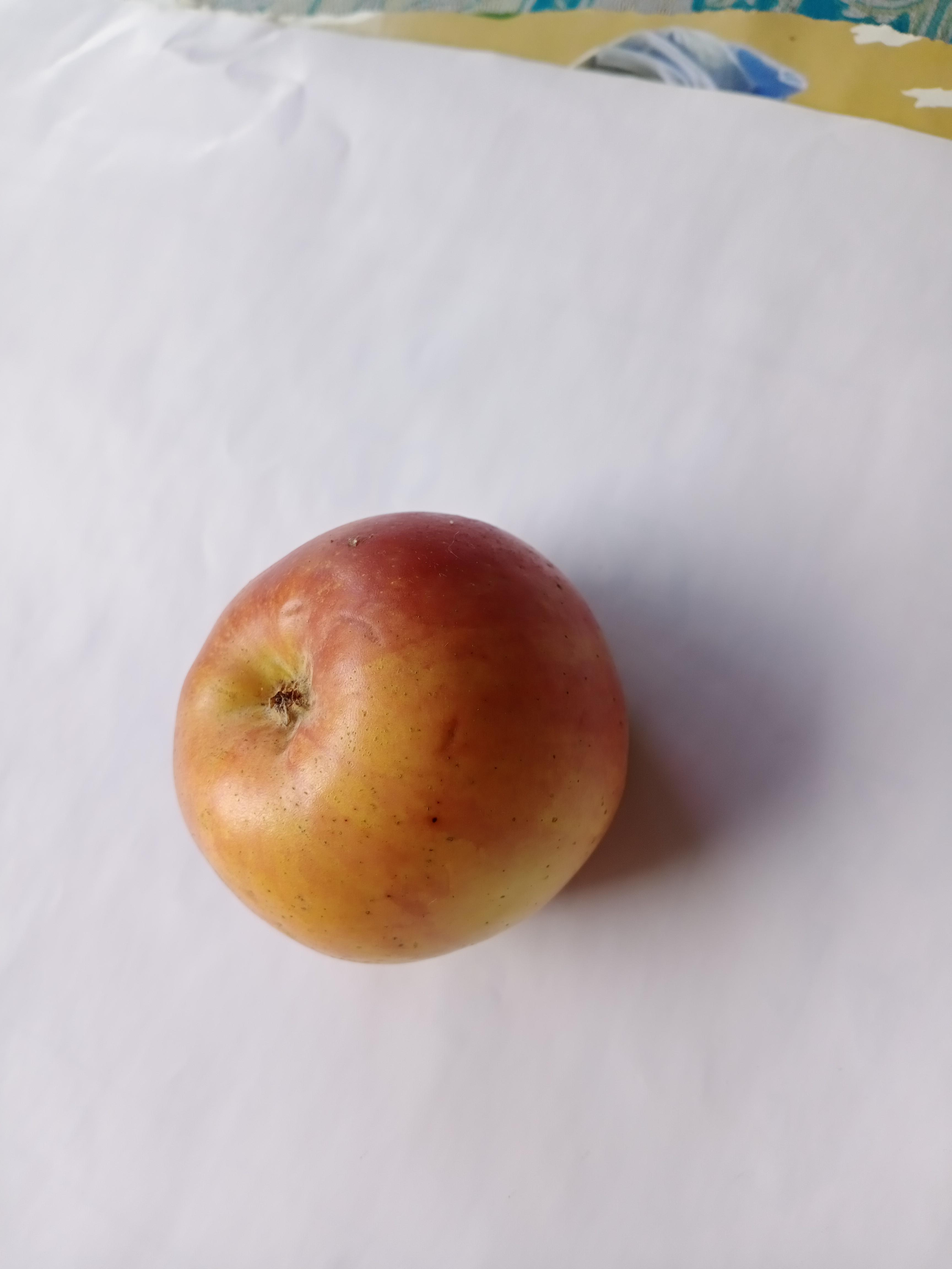Apple Ripe: (135, 499, 658, 1011)
